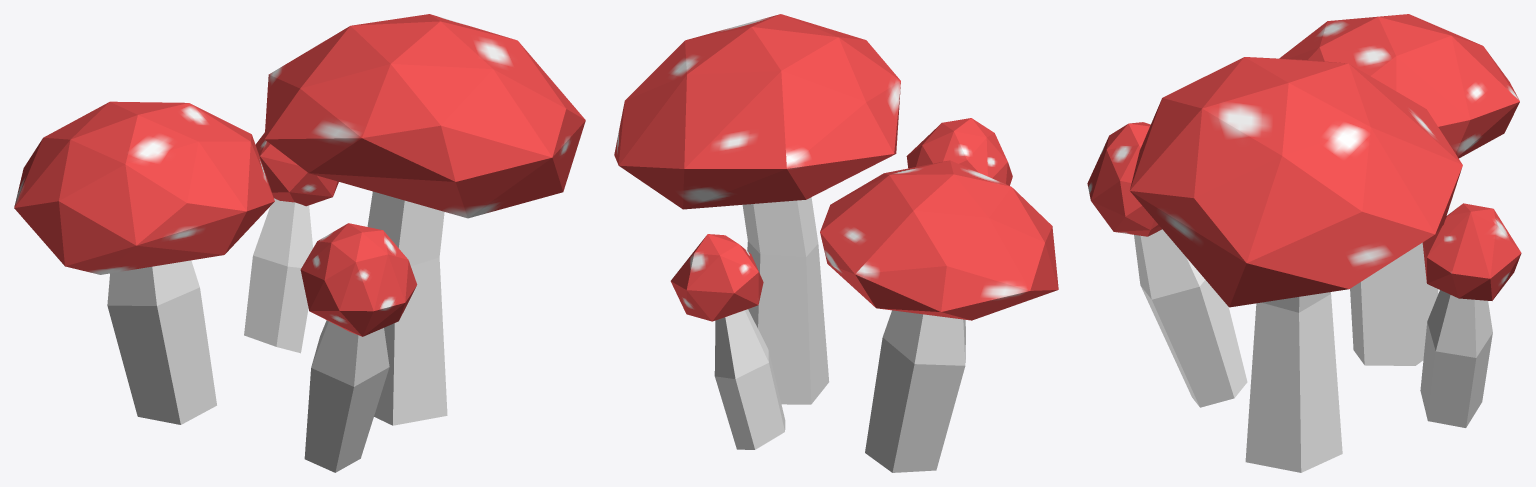
File: Mushroom_e_06.fbx
3 renders of one model, left to right at view 1: azimuth 30°, elevation 25°; view 2: azimuth 150°, elevation 25°; view 3: azimuth 270°, elevation 25°, orthographic. The views are drawn at different scales.
Parts seen in each view (by area): view 1: Mushroom_e_06; view 2: Mushroom_e_06; view 3: Mushroom_e_06.
Part boxes in pixels (left/top/right/bottom): Mushroom_e_06: left=14, top=14, right=585, bottom=472; Mushroom_e_06: left=614, top=14, right=1058, bottom=472; Mushroom_e_06: left=1087, top=14, right=1521, bottom=472.
Size of the model in its own units: 0.5053 by 0.3771 by 0.3796.
